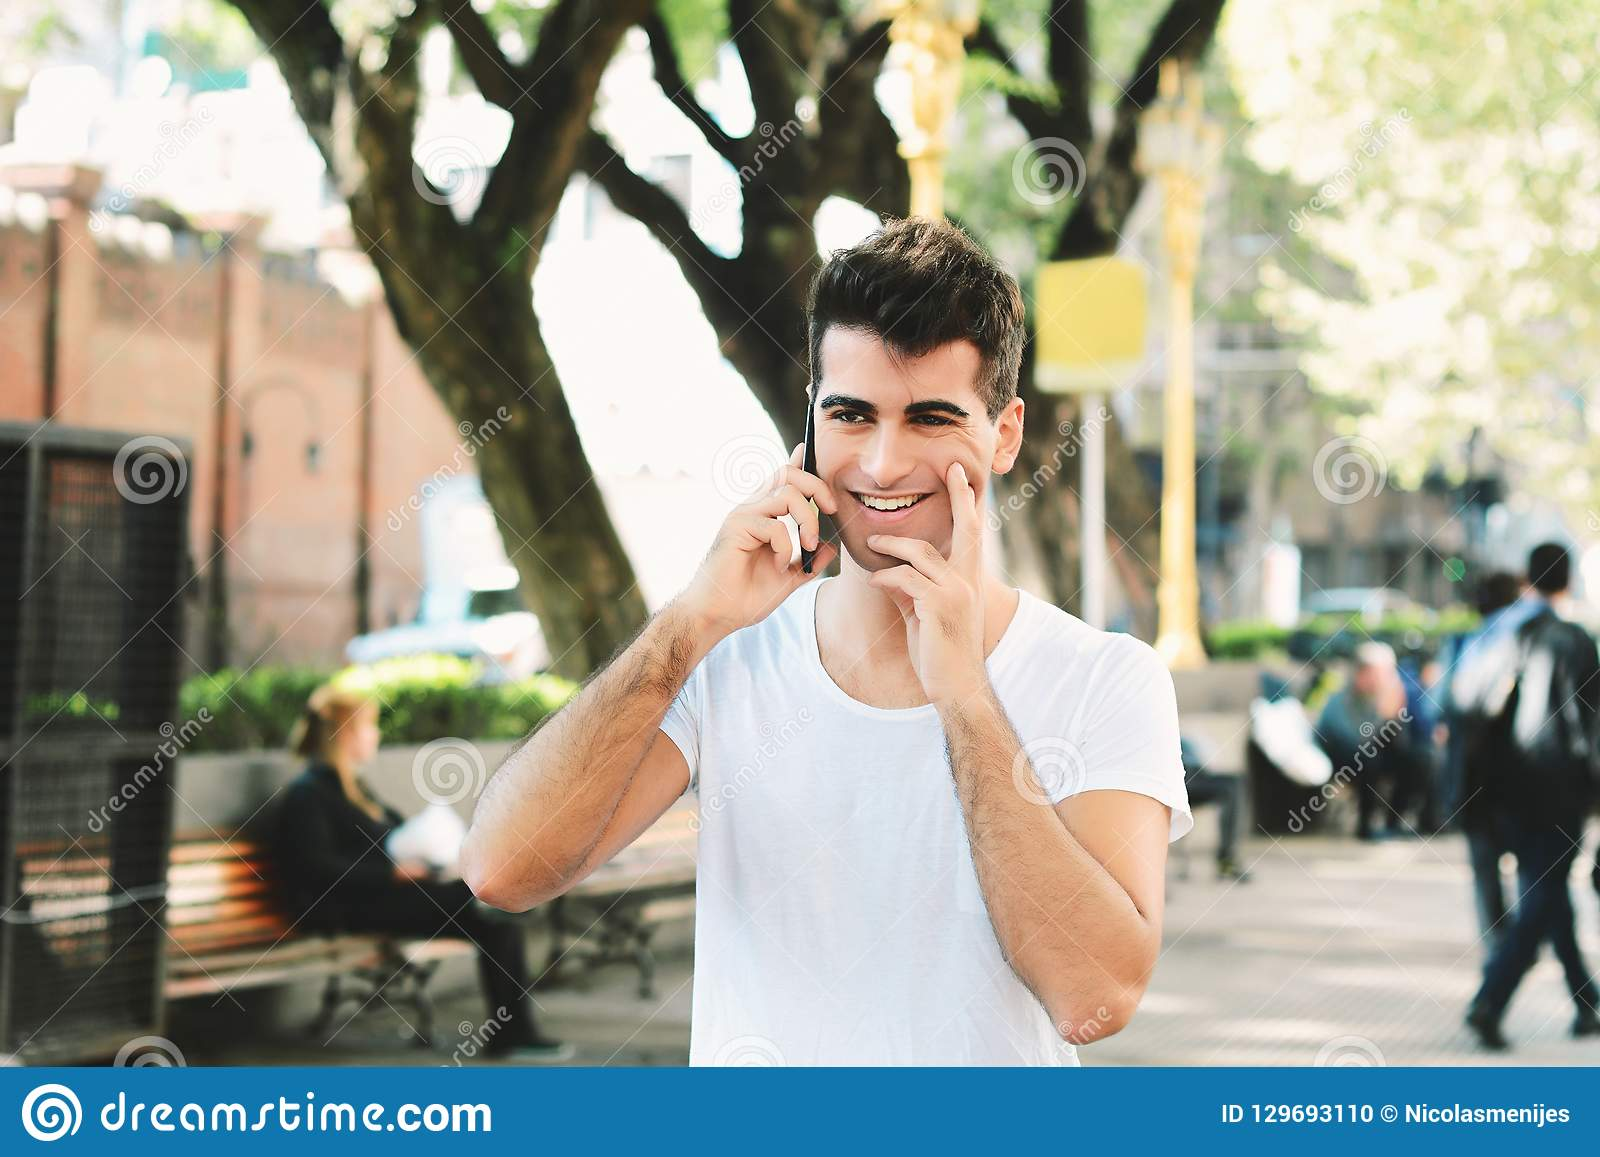phone: (793, 390, 820, 583)
talk: (693, 385, 976, 631)
